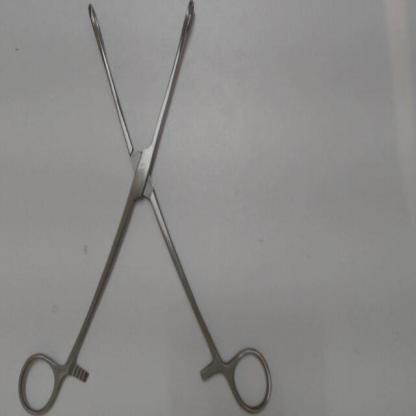Sponge Forceps: (13, 0, 276, 413)
